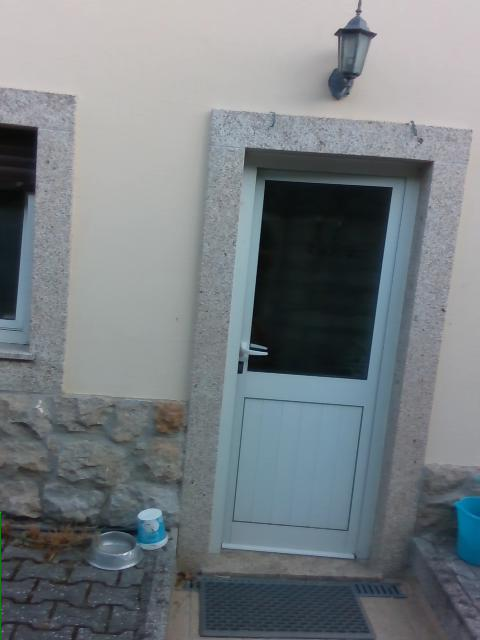door: (207, 146, 433, 574)
